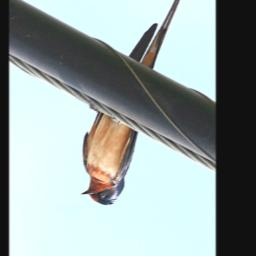Swallow: (81, 0, 186, 207)
